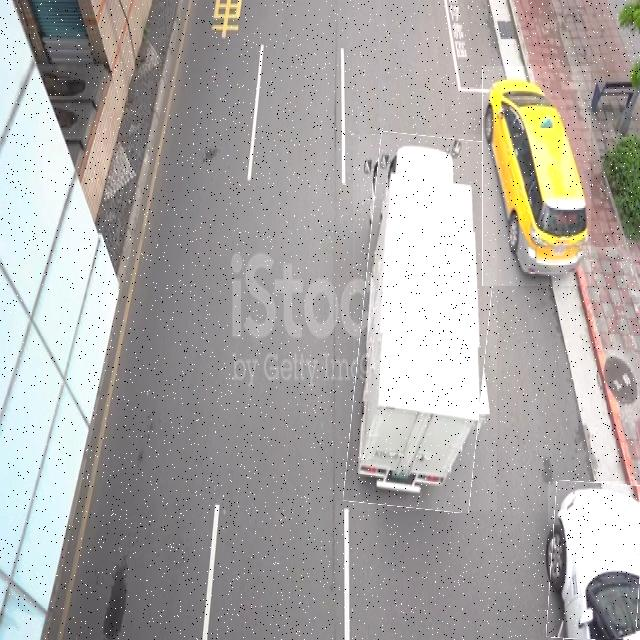Car: (482, 66, 591, 286), (548, 481, 640, 640)
Truck: (353, 134, 497, 511)
